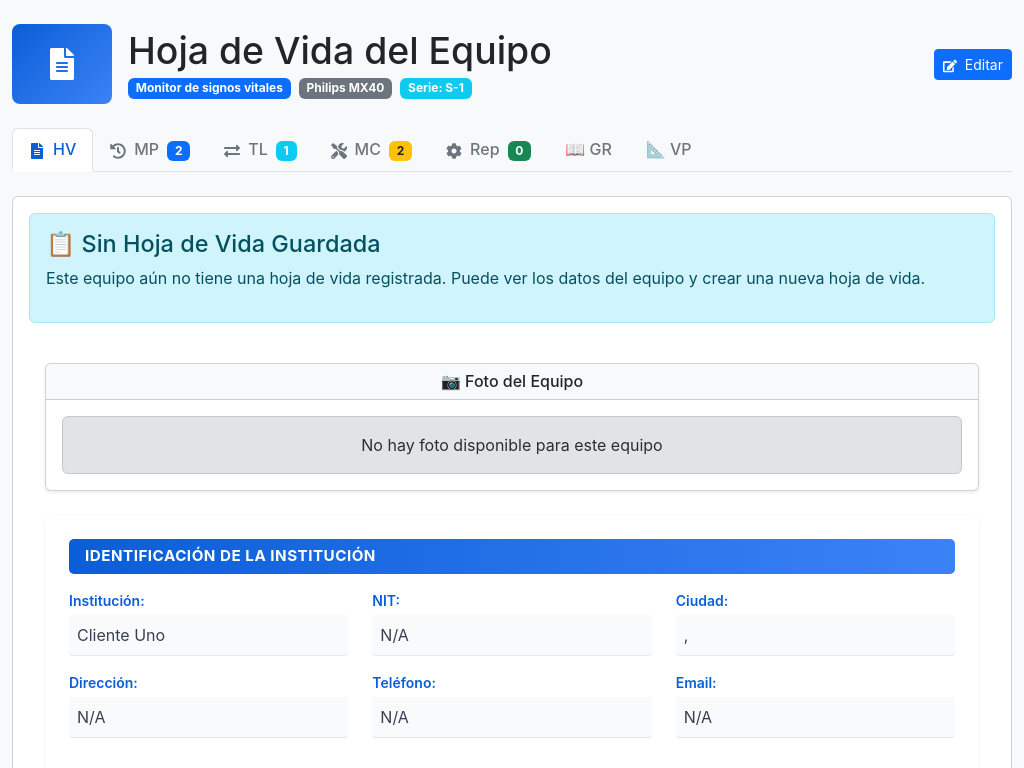
HVEquipoPage - MP tab with external services › without the module the existing external history stays visible read-only (badge and "Ver"), with no add or delete
Step 1. Click the tab titled "Mantenimientos Preventivos" → {"x": 150, "y": 149}, box [93,128,207,170]
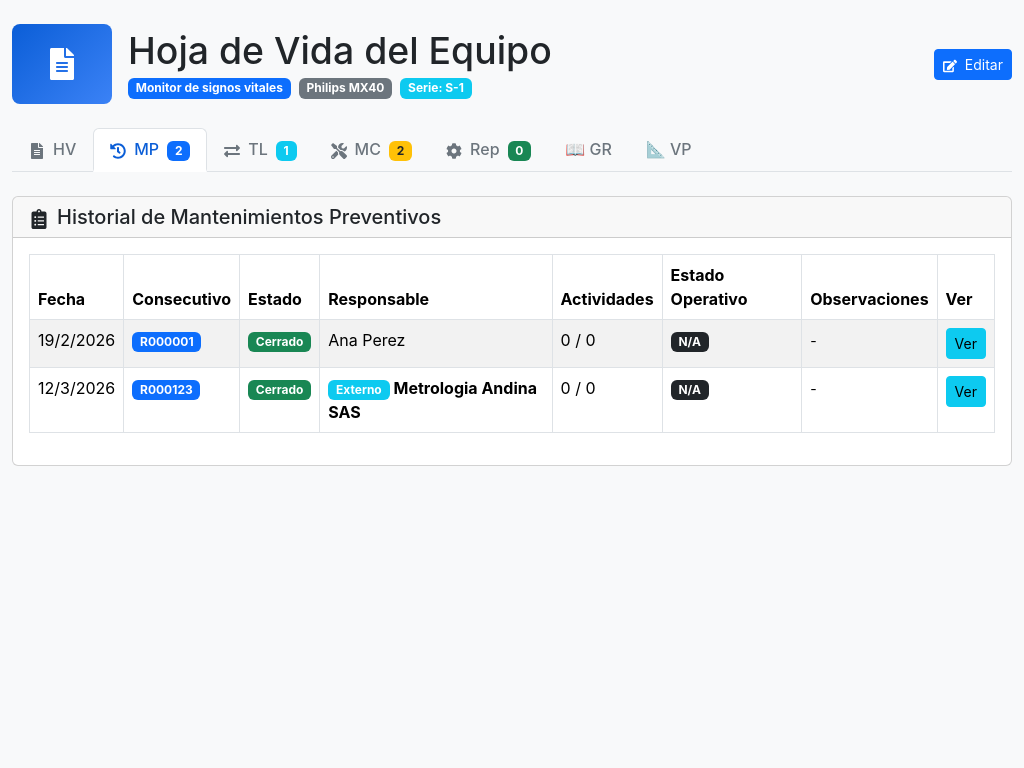
Expected: the text "Externo" is shown, [328,380,390,400]
Expected: the button "Ver" in the row of "12/3/2026" is shown, [946,376,986,407]
